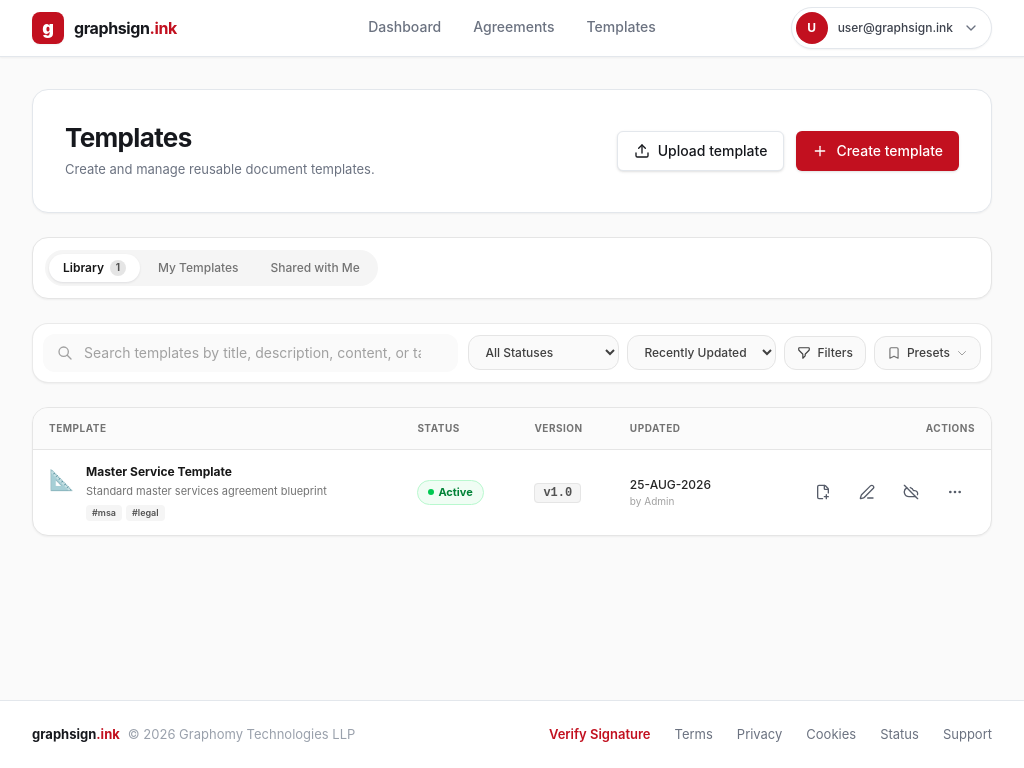
Test: TemplateManagementPage Unit Tests (Epic INK-11, INK-264, INK-270) › opens 3-dots dropdown menu with Version History, Share, and Delete options (INK-270)
Check: the heading "Master Service Template" is shown, box [86,464,232,479]
Click the button named "More actions" at (955,492), box [935,472,975,512]
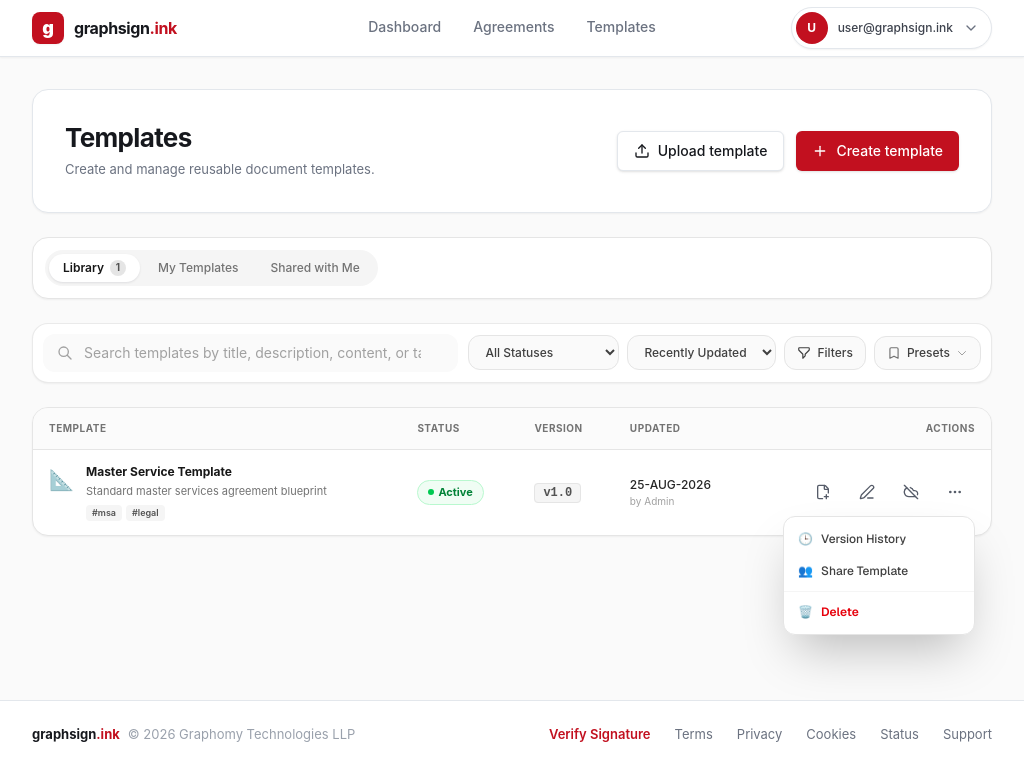
Check: the button "🕒 Version History" is shown, box [784,523,974,555]
Check: the button "👥 Share Template" is shown, box [784,555,974,587]
Check: the button "🗑️ Delete" is shown, box [784,596,974,628]
